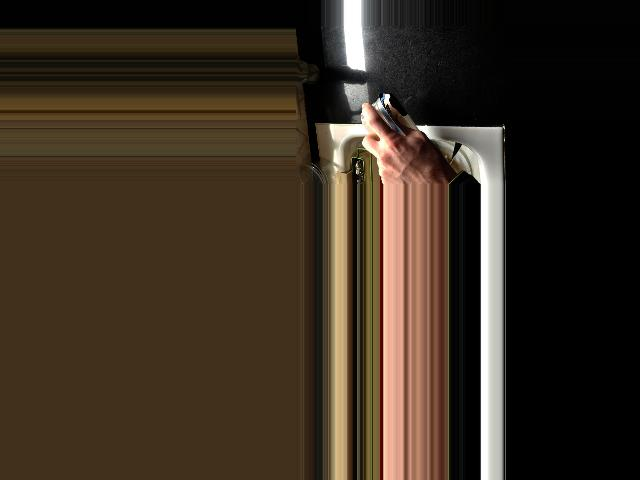cheese: (365, 89, 431, 179)
